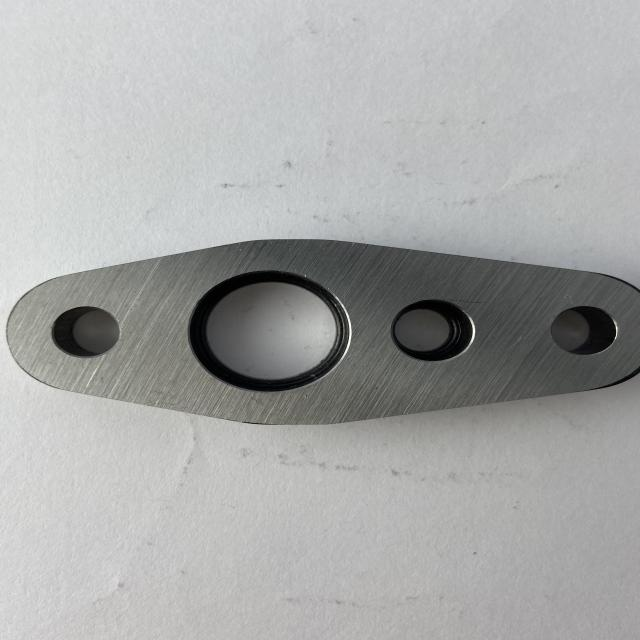chap: (303, 394, 310, 399), (303, 273, 308, 278), (238, 247, 242, 252)
lines: (442, 297, 488, 305)
